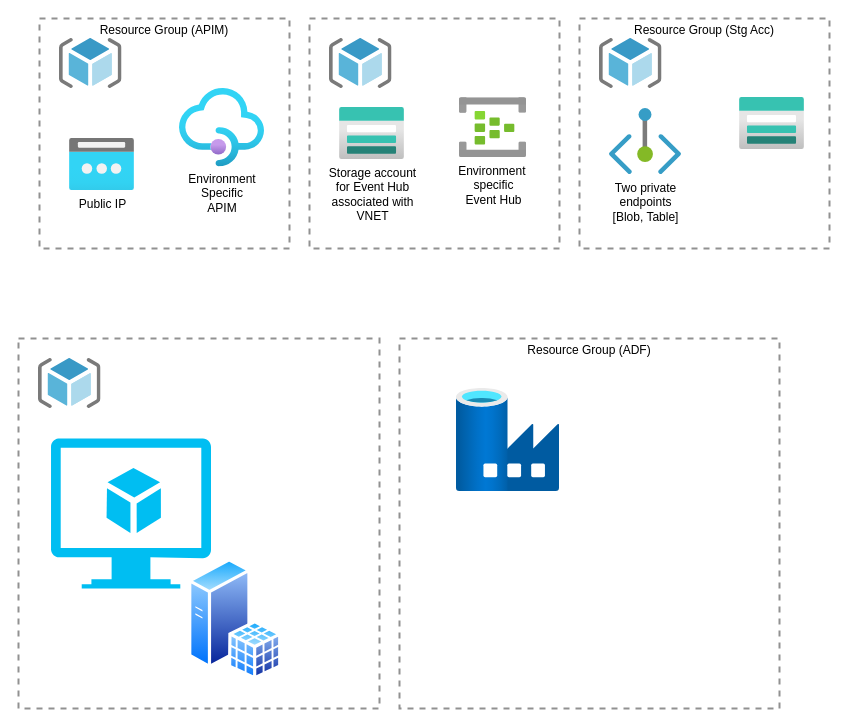
Image size: 847x726. Some labels were removed from this diagram. The box of each missing label's shape, as (x1, y1, x2, y2) in pixels:
Resource Group (Event Hub): (308, 17, 560, 249)
Resource Group (VM for SQL): (17, 337, 380, 709)
Storage account for application: (739, 97, 804, 149)
